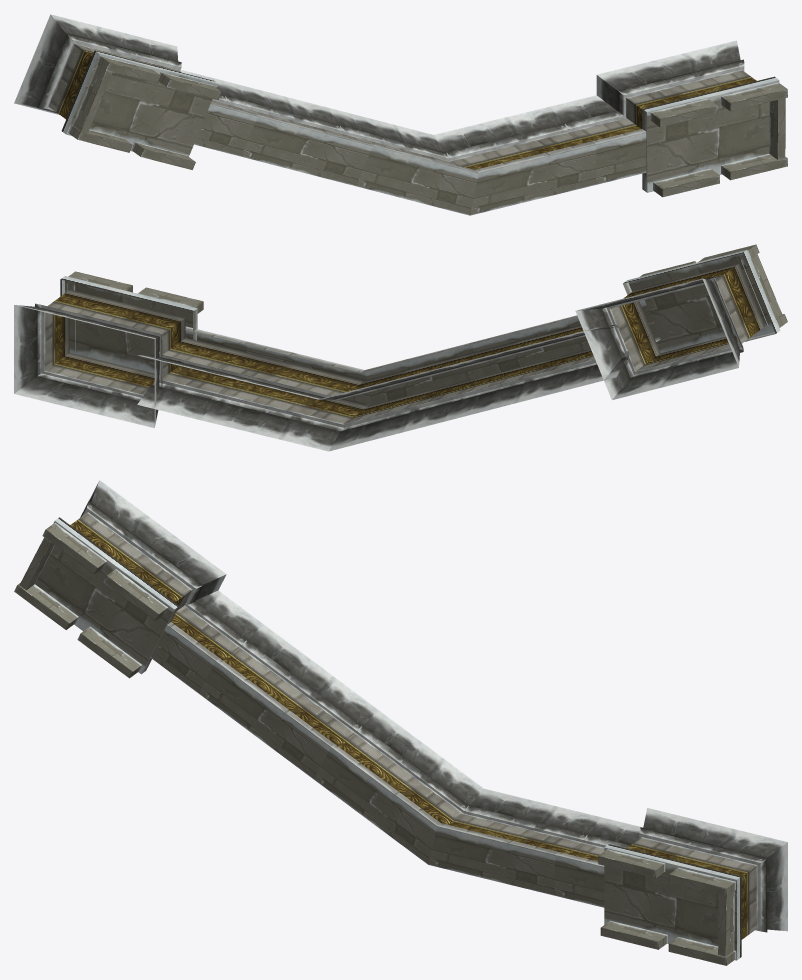
Rendered from zhongbu_fuben_207_wall_02_b.obj.
The picture shows the model from 3 angles, top to bottom: view 1: azimuth 30°, elevation 25°; view 2: azimuth 150°, elevation 25°; view 3: azimuth 330°, elevation 25°; orthographic projection.
Visible parts, largest first — view 1: Object02; view 2: Object02; view 3: Object02.
Part boxes in pixels (x1=…): Object02: x1=14, y1=14, x2=787, y2=215; Object02: x1=14, y1=244, x2=787, y2=451; Object02: x1=14, y1=480, x2=787, y2=965.
Size of the model in its own units: 1454 by 543 by 196.
Materials: 1 (1 with a texture image).
